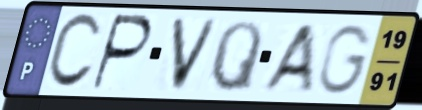A: (256, 21, 318, 95)
C: (43, 11, 104, 93)
G: (315, 22, 375, 97)
P: (88, 11, 156, 93)
Q: (206, 19, 266, 95)
V: (168, 15, 222, 95)
